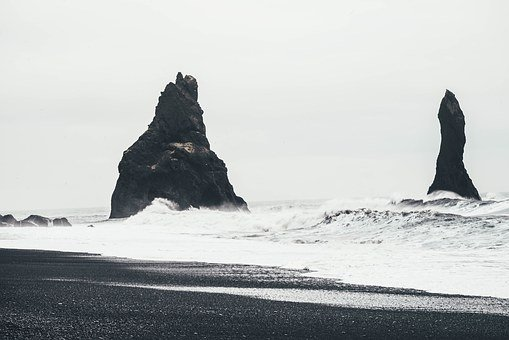sea: (10, 200, 508, 337)
stone: (112, 77, 254, 221), (410, 69, 491, 202)
